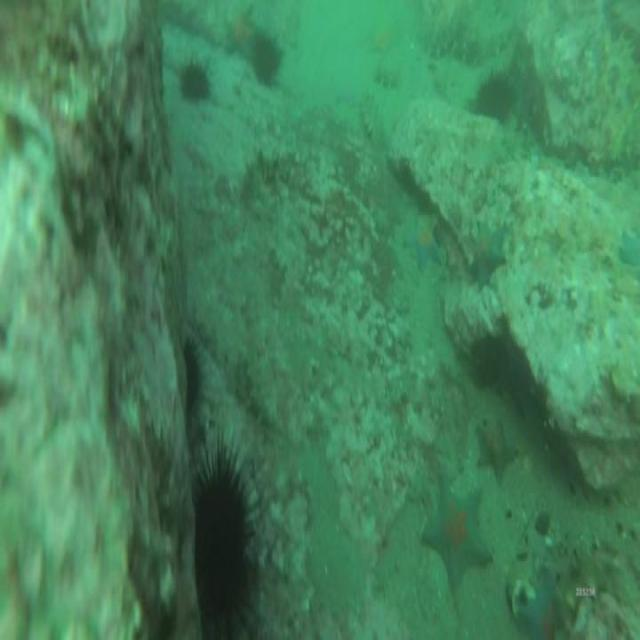echinus: (194, 468, 250, 613), (483, 76, 511, 120), (254, 36, 282, 80), (182, 63, 212, 98)
holothurian: (249, 147, 300, 188), (608, 41, 640, 95), (362, 93, 384, 149), (434, 60, 460, 106), (378, 51, 405, 90)
starfish: (424, 484, 489, 578), (521, 578, 563, 640), (479, 416, 517, 474), (412, 217, 444, 270), (476, 231, 508, 283)
